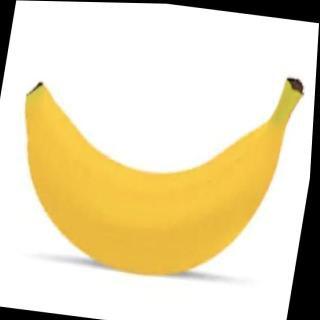banana: (0, 74, 292, 287)
